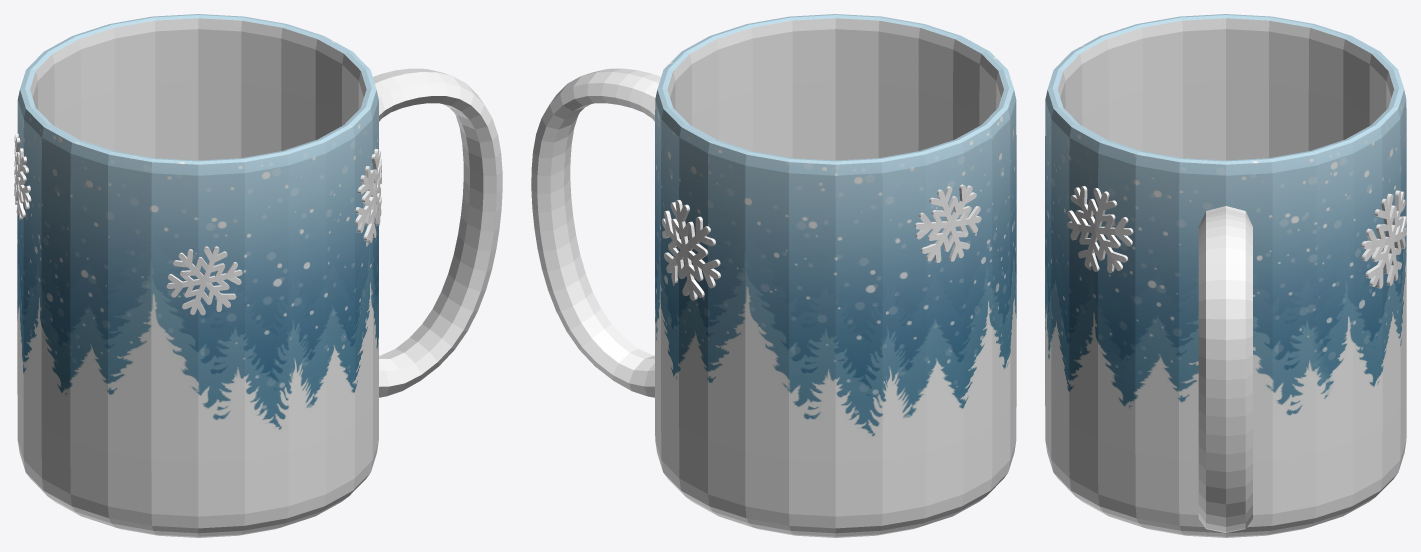
The model's file is Winter_Mug_Low_Poly.obj.
3 renders of one model, left to right at view 1: azimuth 30°, elevation 25°; view 2: azimuth 150°, elevation 25°; view 3: azimuth 270°, elevation 25°, orthographic.
Visible parts, largest first — view 1: Winter_Mug_Cylinder, Decorative_Snowflakes_Plane.003; view 2: Winter_Mug_Cylinder, Decorative_Snowflakes_Plane.003; view 3: Winter_Mug_Cylinder, Decorative_Snowflakes_Plane.003.
Part boxes in pixels (<box>): Winter_Mug_Cylinder: <box>17,14,502,537</box>; Decorative_Snowflakes_Plane.003: <box>14,133,381,315</box>; Winter_Mug_Cylinder: <box>531,14,1016,537</box>; Decorative_Snowflakes_Plane.003: <box>662,184,981,300</box>; Winter_Mug_Cylinder: <box>1045,14,1406,537</box>; Decorative_Snowflakes_Plane.003: <box>1067,186,1406,288</box>.
Bounding box in the file's own units: 0.1164 × 0.0949 × 0.08.
